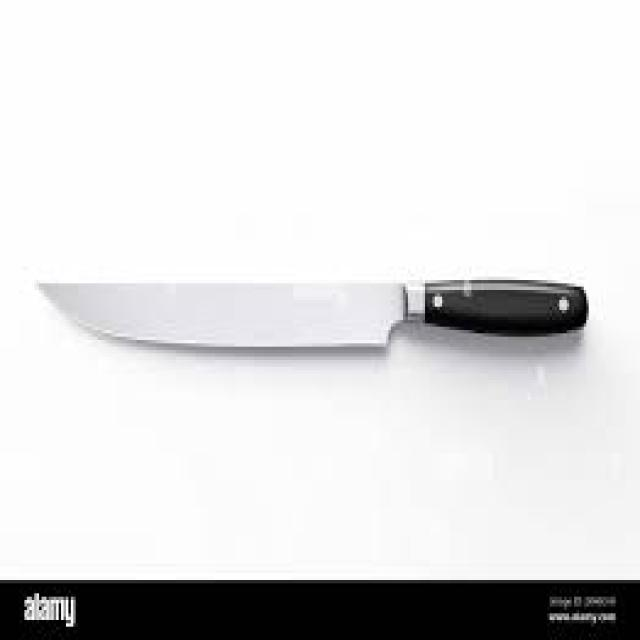Knife: (34, 273, 589, 350)
